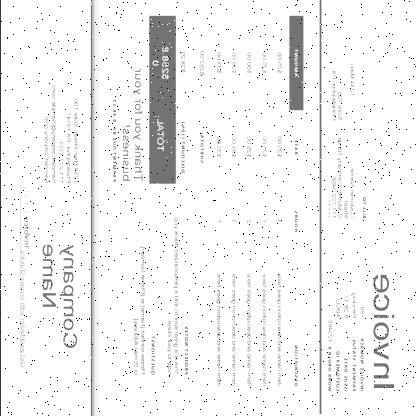Paragraph: (127, 212, 191, 382), (326, 62, 368, 222), (38, 241, 80, 351), (108, 64, 144, 187), (324, 290, 366, 395), (40, 82, 80, 188), (178, 47, 206, 179), (368, 272, 396, 392), (16, 183, 32, 371), (148, 37, 172, 161)
Table: (209, 15, 303, 393)
